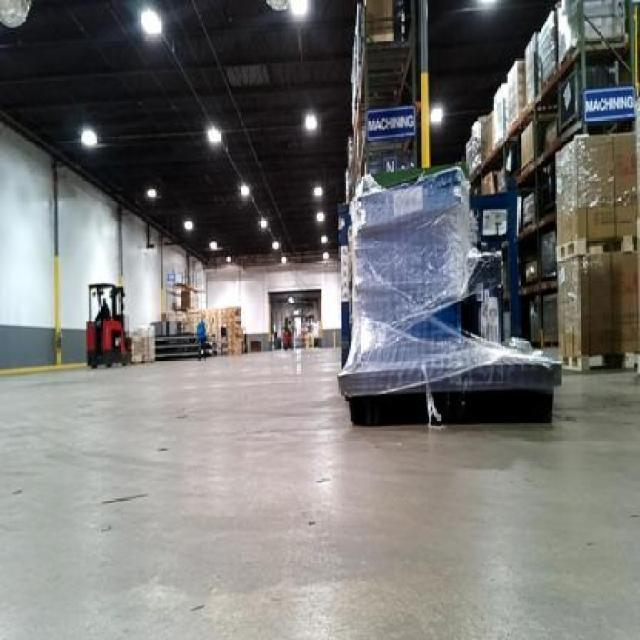forklift: (84, 280, 133, 366)
